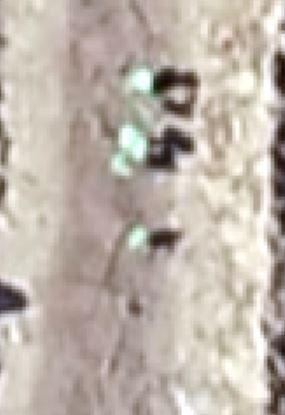cotton: (120, 127, 150, 158), (128, 69, 154, 93), (113, 152, 133, 173), (129, 225, 148, 247)
